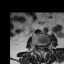CCS_stenosis: (41, 45, 42, 52)
LFS_severe_stenosis: (44, 45, 46, 50)
LLS_stenosis: (42, 45, 44, 50)
RFS_severe_stenosis: (37, 44, 39, 49)
RLS_stenosis: (39, 45, 41, 50)
